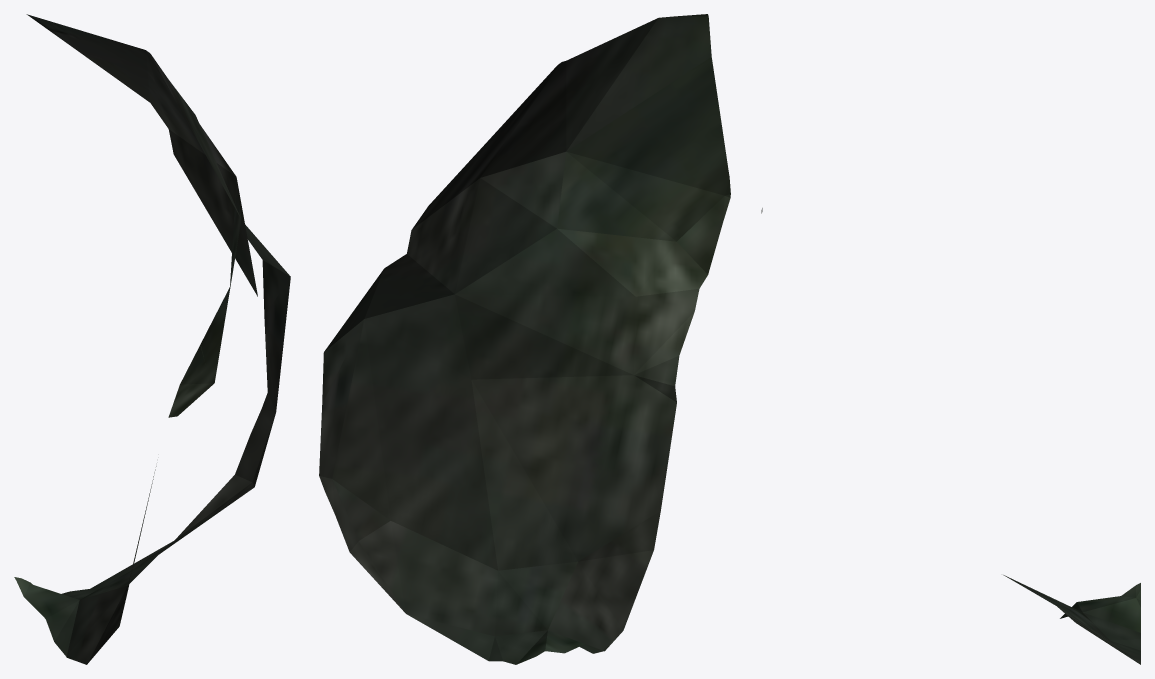
3 views of the same model, side by side, from view 1: azimuth 30°, elevation 25°; view 2: azimuth 150°, elevation 25°; view 3: azimuth 270°, elevation 25° (orthographic). The views are drawn at different scales.
Bounding box in the file's own units: 1.13 × 2.57 × 1.46.
1 material, 1 textured.
